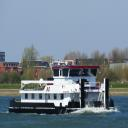tugboat: (9, 57, 118, 118)
